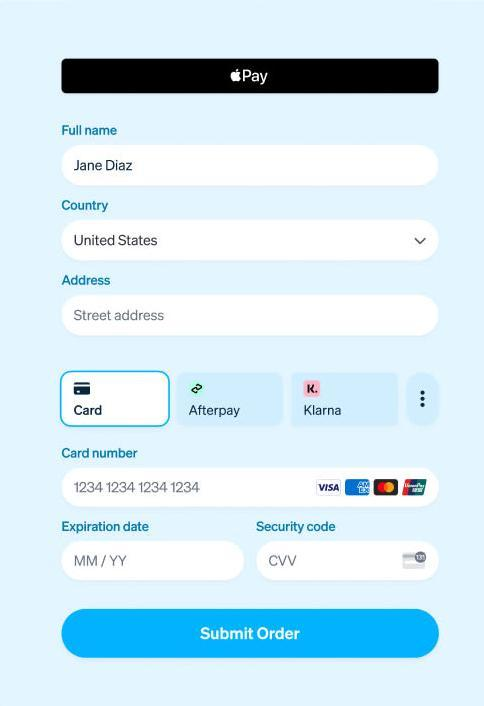button: (64, 607, 442, 659), (64, 60, 440, 95)
dropdown: (64, 216, 444, 260)
icon: (303, 380, 326, 399), (72, 382, 96, 397), (418, 387, 431, 414), (190, 382, 208, 400)
input: (62, 143, 442, 191), (62, 292, 439, 338), (65, 466, 436, 508), (62, 542, 245, 583), (256, 541, 440, 581)
label: (60, 516, 152, 540), (256, 517, 342, 538), (60, 443, 141, 464), (62, 121, 123, 141), (62, 195, 111, 216), (59, 273, 116, 288)
